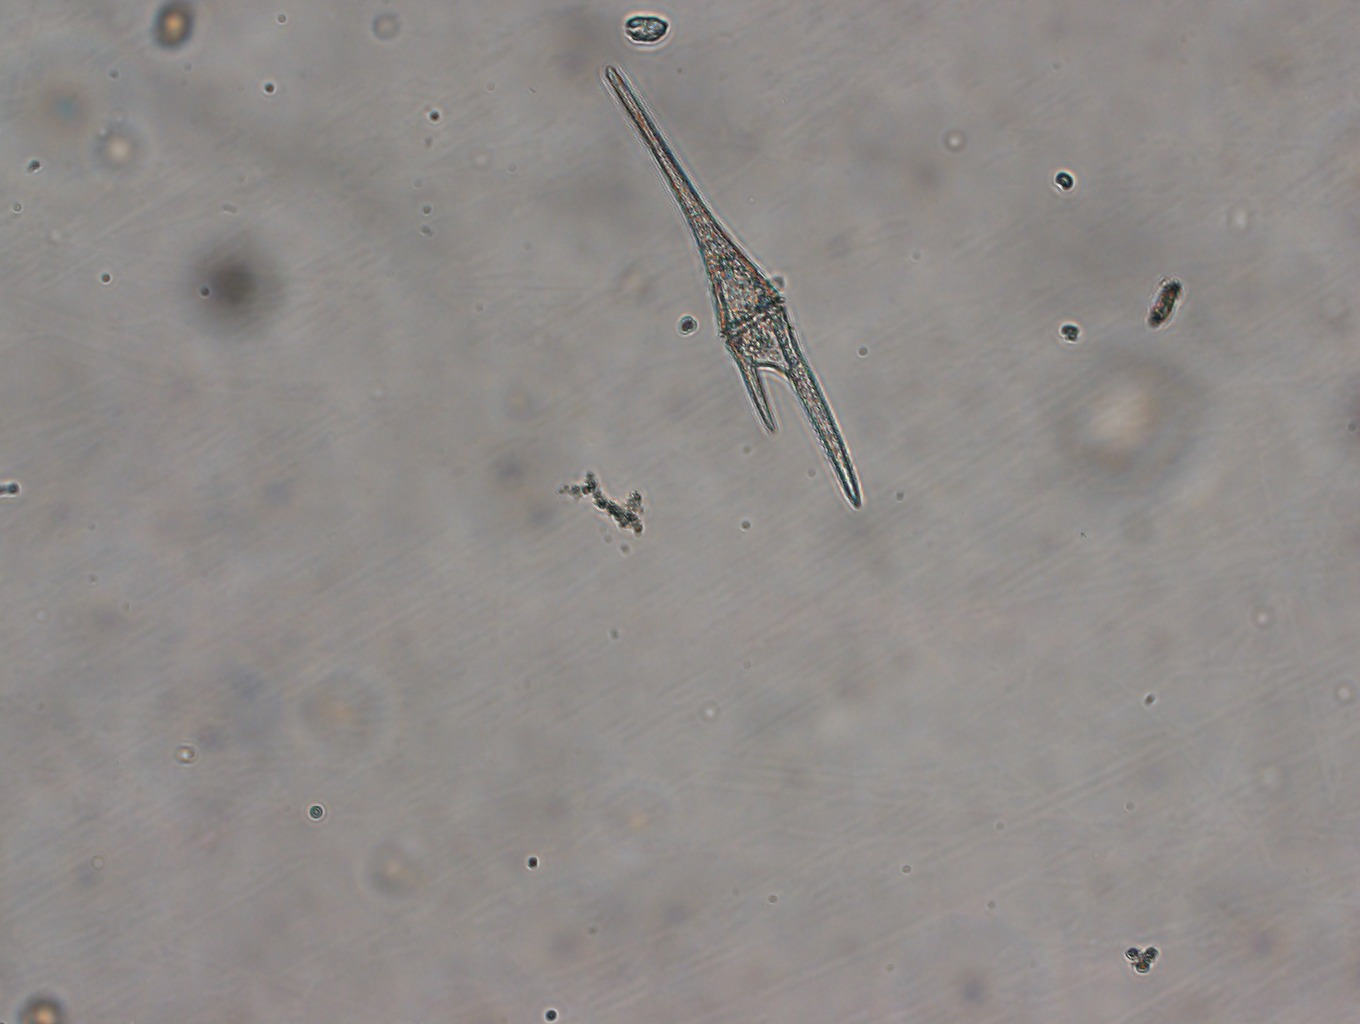ceratium furca: (592, 58, 867, 517)
